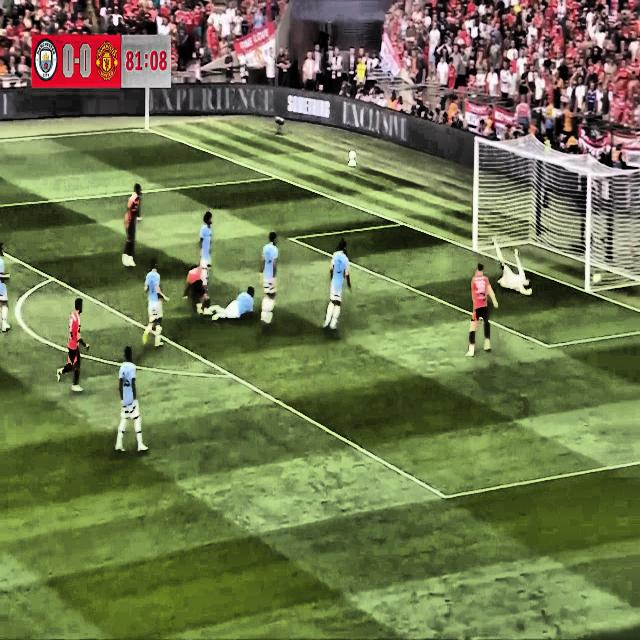ball: (591, 266, 603, 293)
players: (113, 344, 152, 464), (52, 291, 87, 404), (322, 235, 356, 336), (464, 257, 499, 355), (205, 278, 262, 335), (492, 238, 534, 308), (140, 260, 171, 352), (256, 224, 281, 335), (118, 168, 143, 268), (196, 208, 216, 296), (184, 258, 212, 320), (1, 235, 17, 338)
